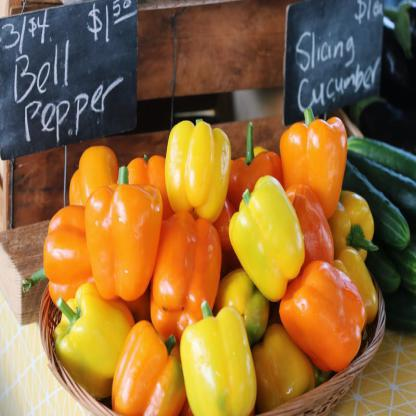capsicum: (80, 155, 172, 312)
